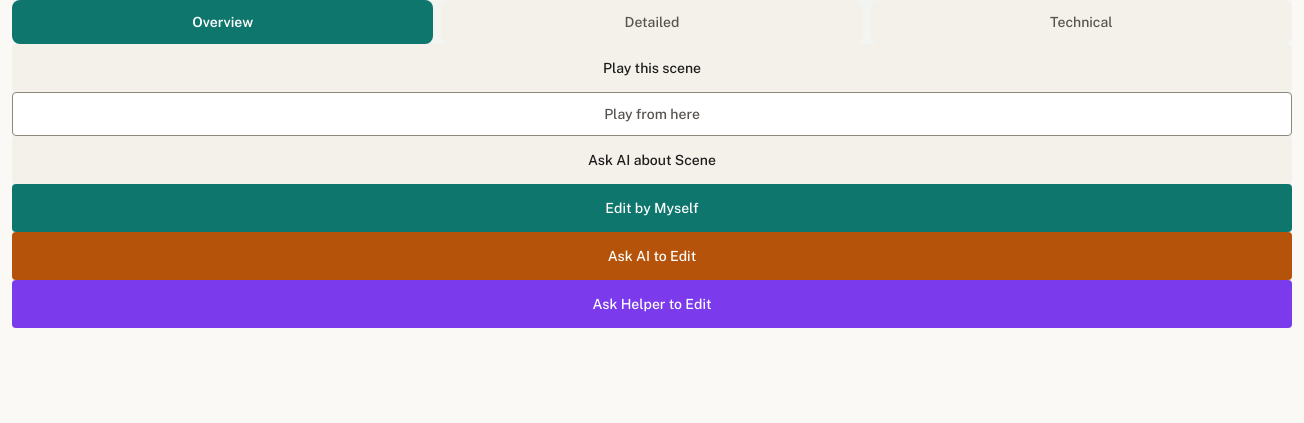
Scenario: SceneActions — voice input present in every composer › the Ask-Helper composer renders a mic (voice input) button
Click the button "Ask Helper to Edit": x=652, y=304 [12, 280, 1292, 328]
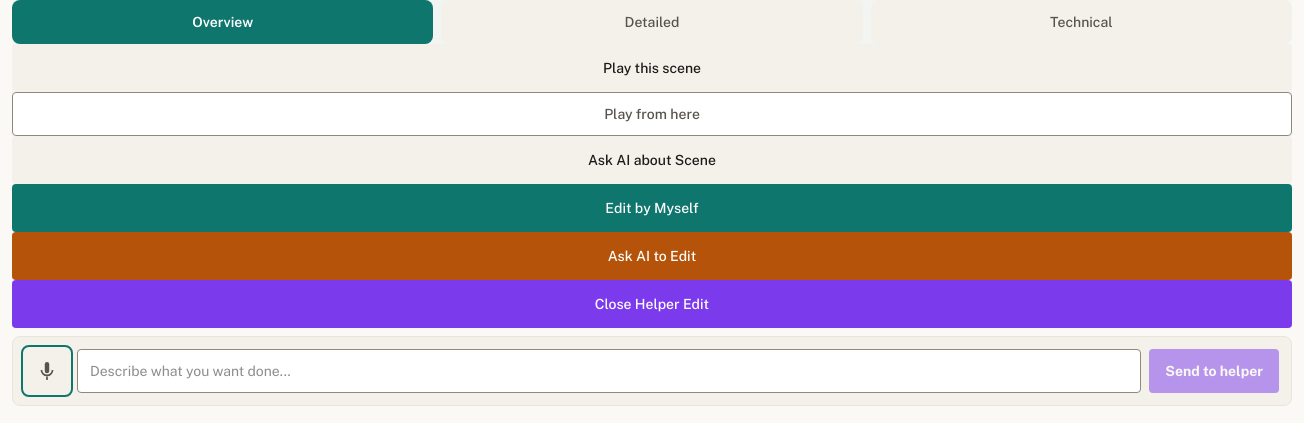
Now the button named "voice input" is shown, box [25, 349, 69, 393]
